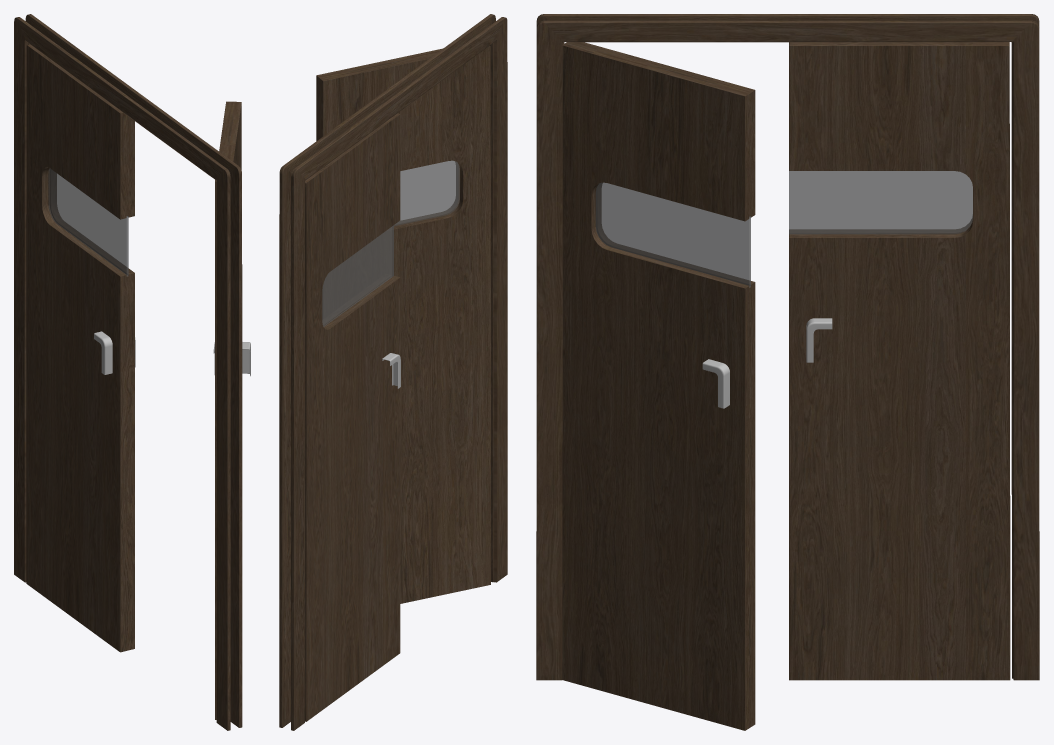
Rendered from DoorBig. Open1.glb.
The picture shows the model from 3 angles, left to right: view 1: azimuth 30°, elevation 25°; view 2: azimuth 150°, elevation 25°; view 3: azimuth 270°, elevation 25°; orthographic projection. The views are drawn at different scales.
Visible parts, largest first — view 1: door_big_R, door_big_box, win_big_r, door_big_L, hande_big_R; view 2: door_big_L, door_big_R, door_big_box, win_big_r, win_big_L; view 3: door_big_R, door_big_L, door_big_box, win_big_r, win_big_L.
Boxes of the visible parts, <box> form: door_big_R: <box>26,44,134,652</box>; door_big_box: <box>14,14,242,730</box>; win_big_r: <box>48,168,128,276</box>; door_big_L: <box>215,101,241,719</box>; hande_big_R: <box>94,331,135,374</box>; door_big_L: <box>316,46,490,603</box>; door_big_R: <box>305,113,400,721</box>; door_big_box: <box>279,14,507,730</box>; win_big_r: <box>322,225,393,326</box>; win_big_L: <box>394,160,459,226</box>; door_big_R: <box>789,42,1010,680</box>; door_big_L: <box>562,42,755,730</box>; door_big_box: <box>536,14,1039,680</box>; win_big_r: <box>789,171,972,234</box>; win_big_L: <box>595,182,750,287</box>.
Bounding box in the file's own units: 0.4093 × 1.97 × 1.36.
3 materials, 3 textured.
